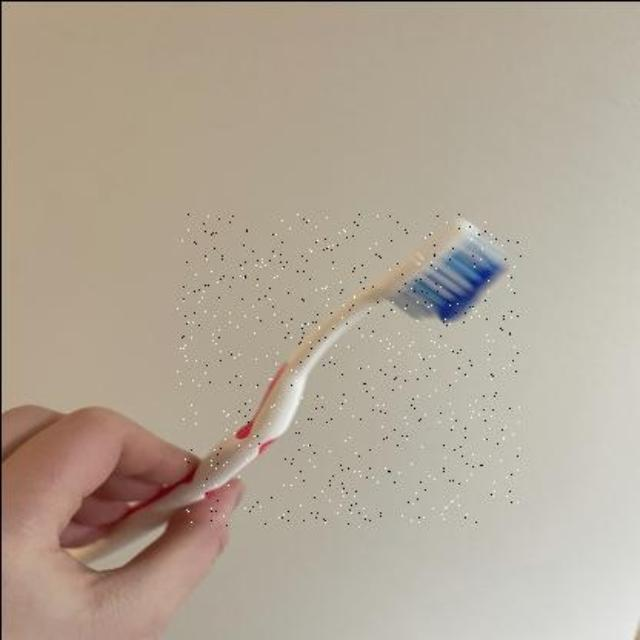toothbrush: (176, 212, 520, 526)
